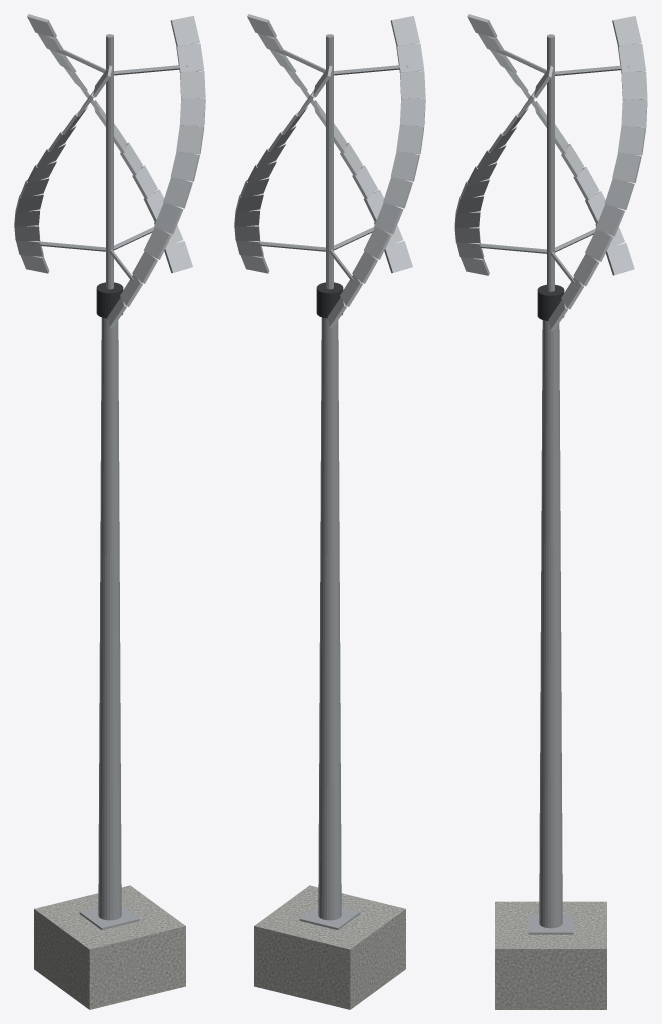
The picture shows the model from 3 angles, left to right: view 1: azimuth 30°, elevation 25°; view 2: azimuth 150°, elevation 25°; view 3: azimuth 270°, elevation 25°; orthographic projection.
Visible parts, largest first — view 1: mastDiameter=0.15;mastHeight=6;material=steel_galv;ratedPowe (×4); view 2: mastDiameter=0.15;mastHeight=6;material=steel_galv;ratedPowe (×4); view 3: mastDiameter=0.15;mastHeight=6;material=steel_galv;ratedPowe (×4).
Part boxes in pixels (x1,y1,x2,y2): mastDiameter=0.15;mastHeight=6;material=steel_galv;ratedPowe (×4): (14,14,205,1009); mastDiameter=0.15;mastHeight=6;material=steel_galv;ratedPowe (×4): (234,14,425,1009); mastDiameter=0.15;mastHeight=6;material=steel_galv;ratedPowe (×4): (454,14,647,1009).
Size of the model in its own units: 1.72 by 1.72 by 9.36.
4 materials, 1 textured.
